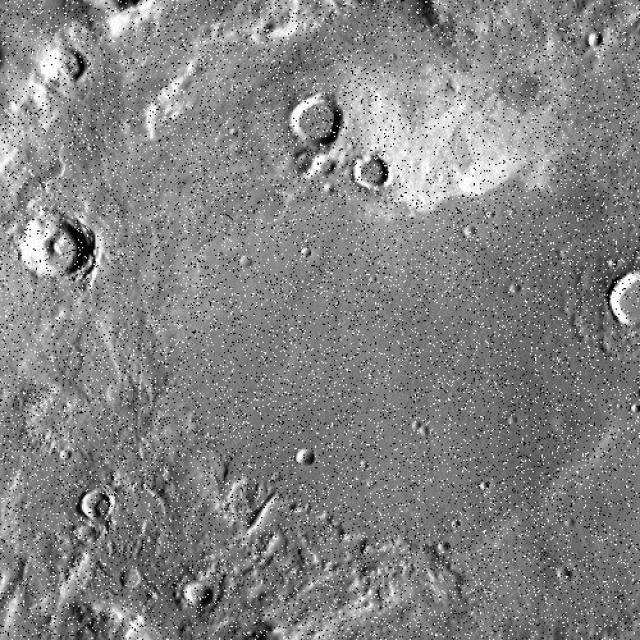crater: (475, 0, 640, 138), (528, 6, 640, 206), (227, 0, 422, 85), (546, 0, 640, 105), (560, 28, 640, 151), (584, 305, 640, 454), (556, 0, 640, 82), (268, 83, 366, 151), (14, 207, 97, 287), (590, 246, 640, 352), (56, 1, 166, 48), (584, 62, 640, 143), (226, 0, 323, 39)
